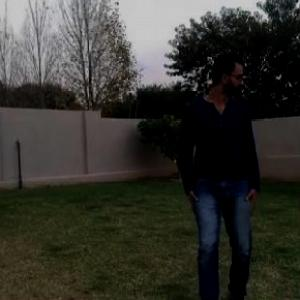follow: (170, 29, 269, 299)
